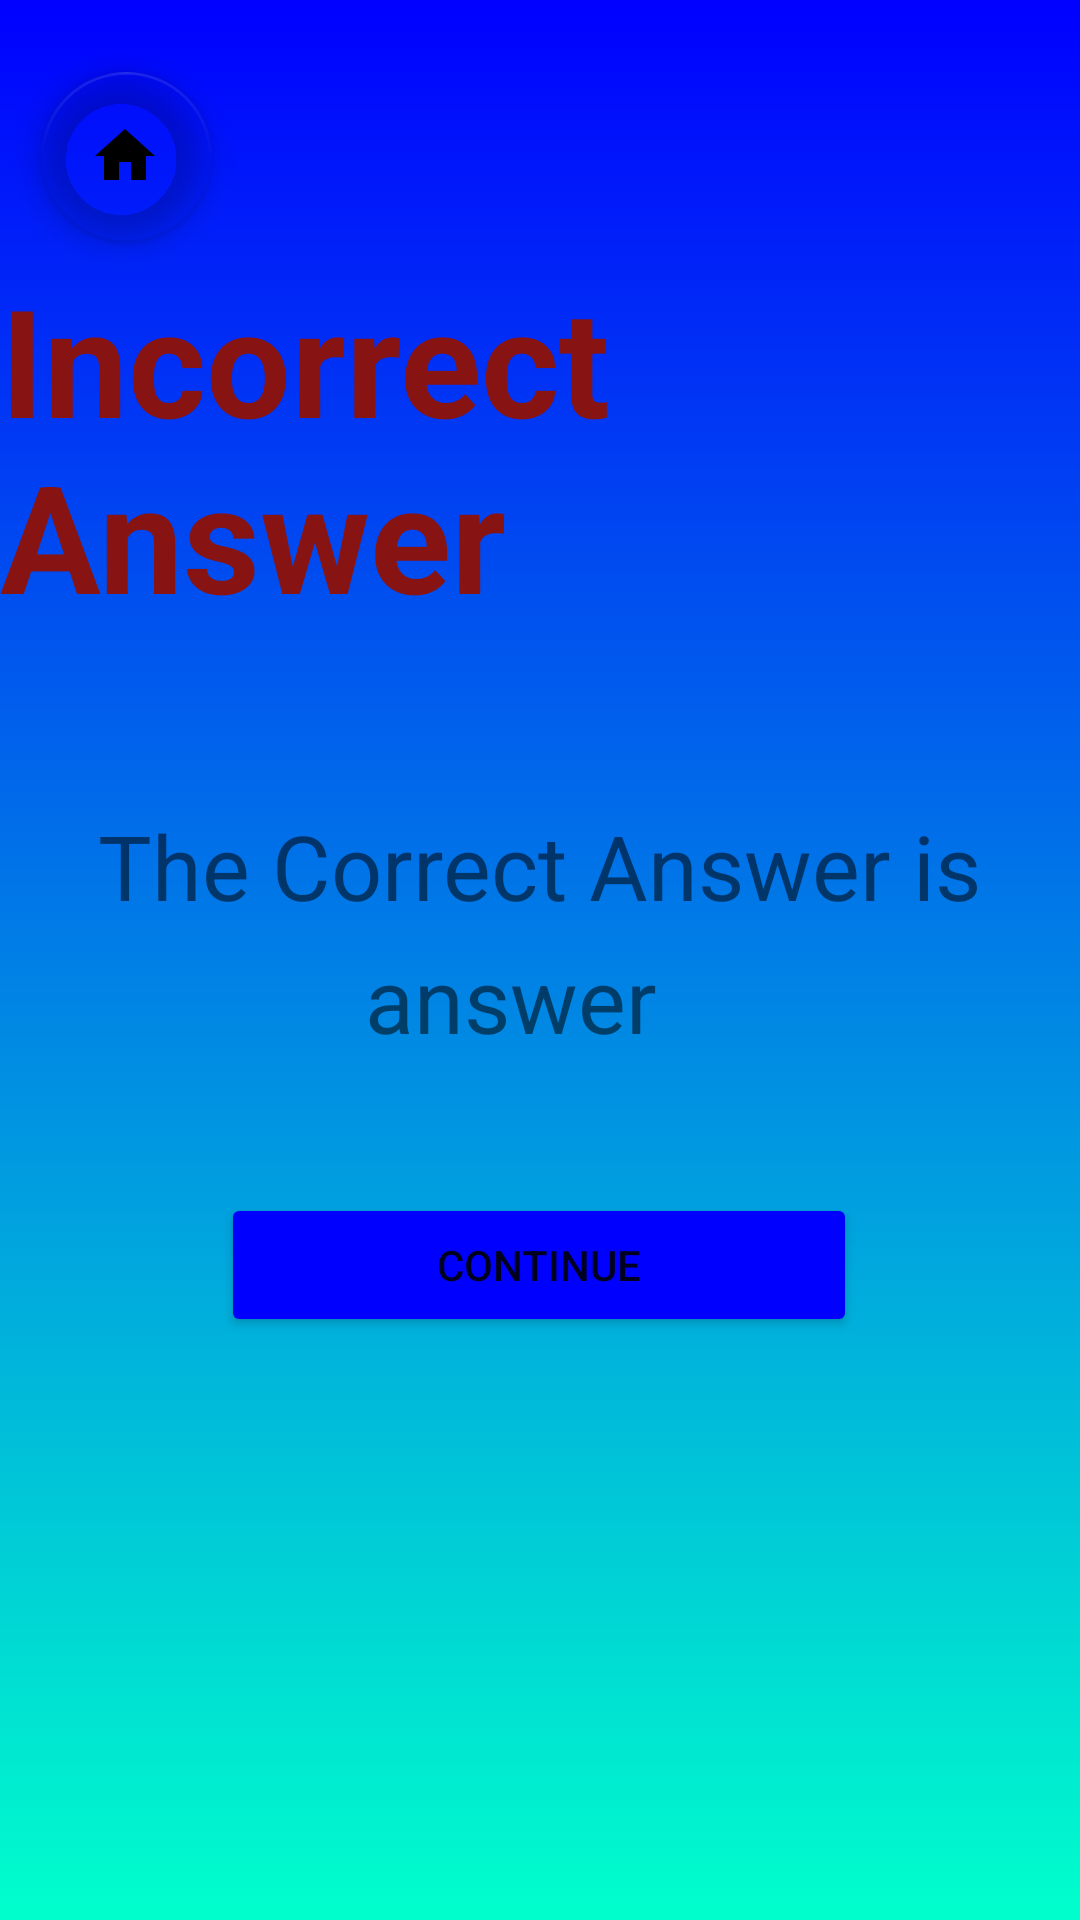

Icon click points for this 1080w x 1920h phone screenshot, format point (x, y):
home: point (126, 157)
